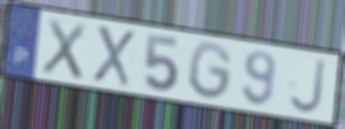5: (144, 31, 183, 93)
9: (240, 49, 279, 108)
G: (188, 40, 235, 103)
J: (287, 56, 328, 116)
X: (39, 16, 88, 83), (91, 23, 136, 90)
